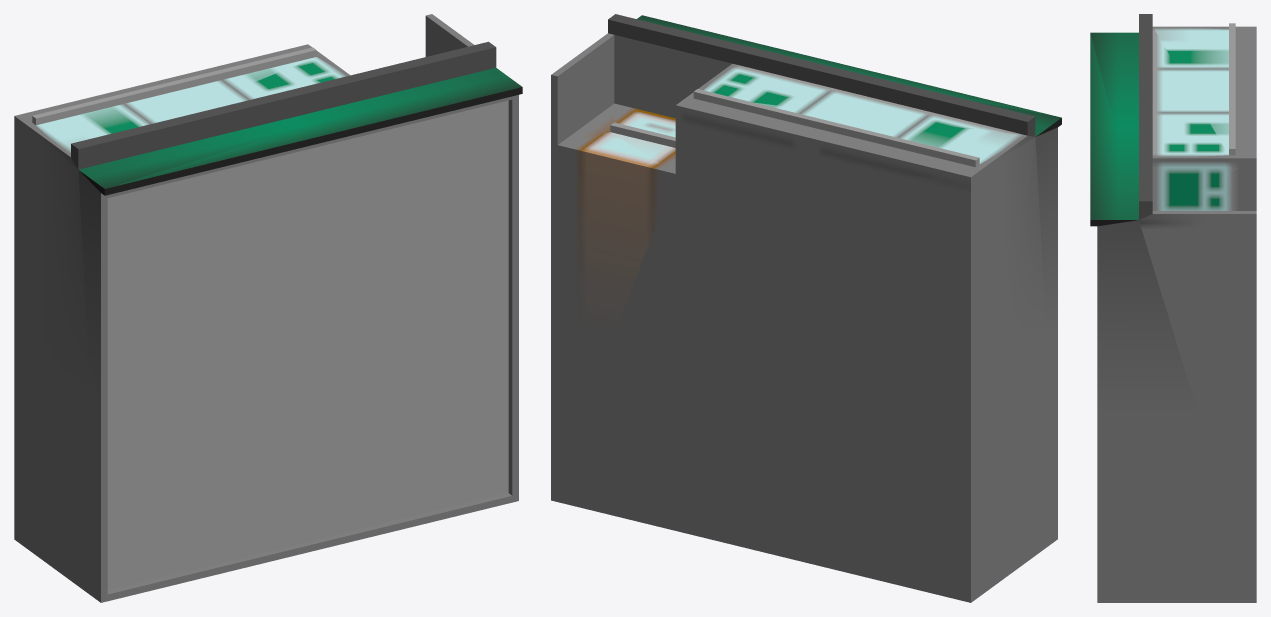
Rendered from store2.obj.
3 renders of one model, left to right at view 1: azimuth 30°, elevation 25°; view 2: azimuth 150°, elevation 25°; view 3: azimuth 270°, elevation 25°, orthographic. The views are drawn at different scales.
Parts seen in each view (by area): view 1: Model; view 2: Model; view 3: Model.
Part boxes in pixels (x1,y1,x2,y2): Model: [14, 14, 522, 602]; Model: [551, 14, 1061, 602]; Model: [1090, 14, 1256, 602].
Bounding box in the file's own units: 6.4 × 6.4 × 2.4.
